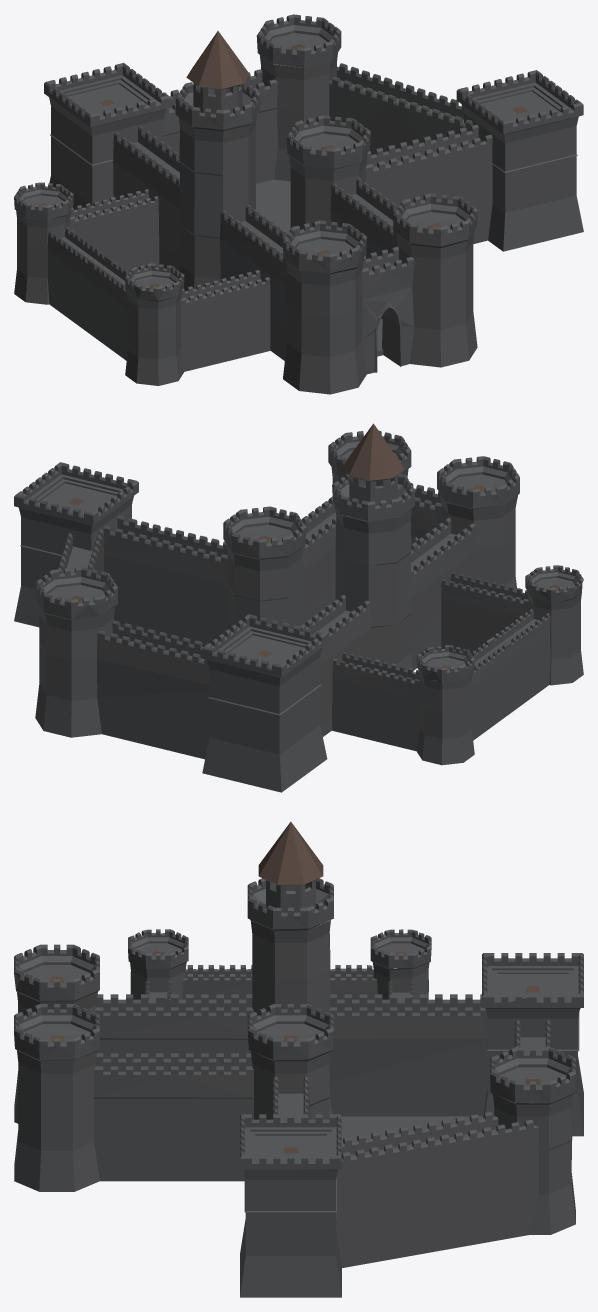
Rendered from castle_lev2.glb.
3 views of the same model, one above another, from view 1: azimuth 30°, elevation 25°; view 2: azimuth 150°, elevation 25°; view 3: azimuth 270°, elevation 25° (orthographic). The views are drawn at different scales.
Parts seen in each view (by area): view 1: castle_lev2; view 2: castle_lev2; view 3: castle_lev2.
Part boxes in pixels (left/top/right/bottom): castle_lev2: left=14, top=14, right=583, bottom=394; castle_lev2: left=14, top=423, right=583, bottom=792; castle_lev2: left=14, top=821, right=583, bottom=1297.
Bounding box in the file's own units: 30.57 × 15.99 × 28.12.
Materials: 1 (1 with a texture image).
